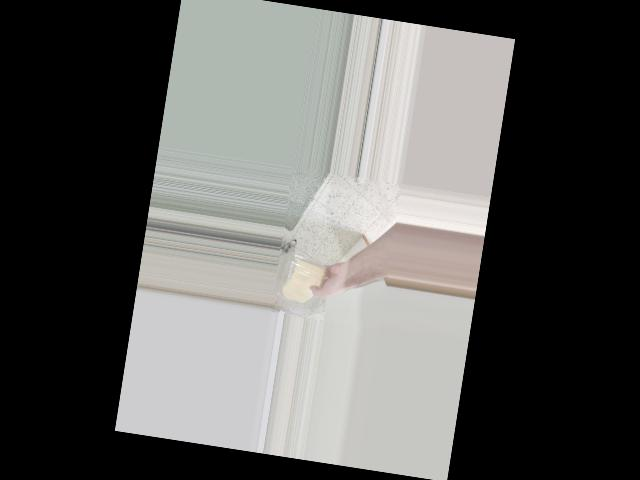cheese: (276, 252, 328, 307)
